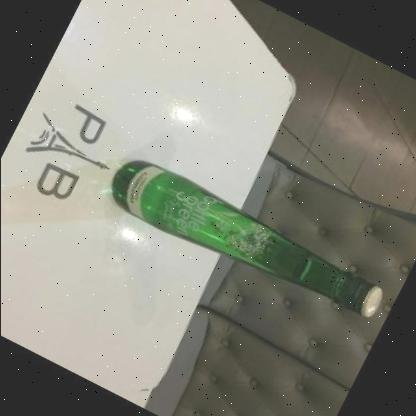Others: (112, 160, 382, 318)
